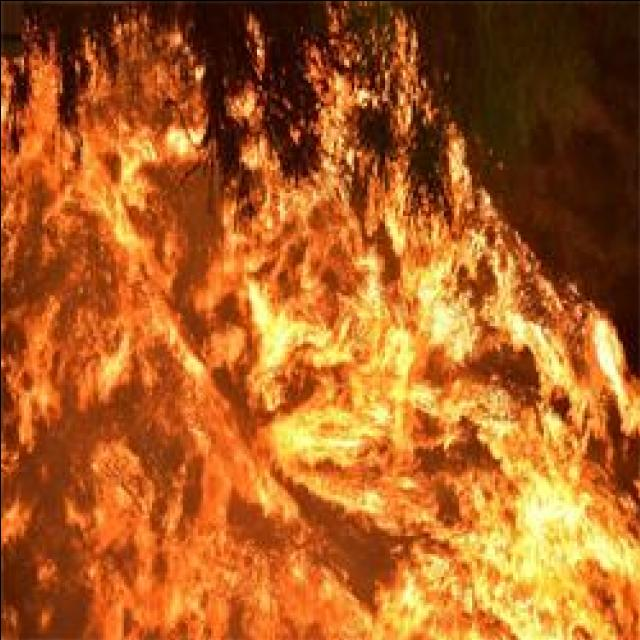fire: (479, 534, 569, 634), (336, 324, 422, 422), (109, 132, 165, 248), (499, 409, 571, 486), (513, 489, 578, 569), (408, 281, 476, 353), (280, 408, 366, 462), (245, 288, 303, 366), (590, 322, 624, 387)
